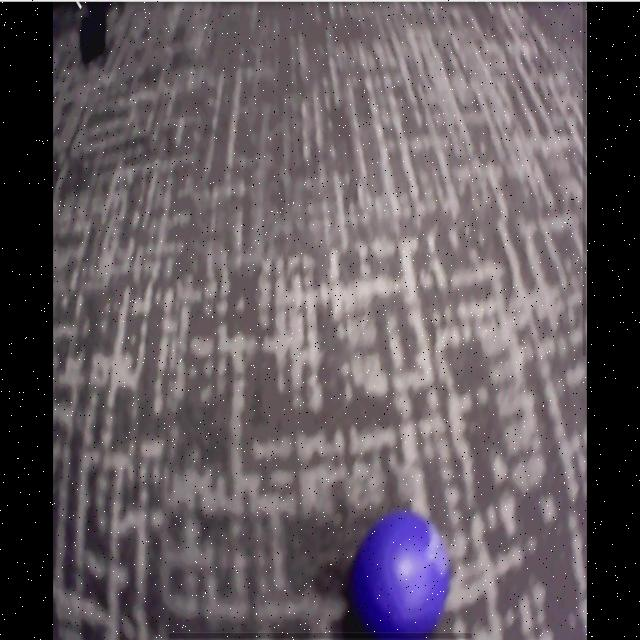ball: (354, 515, 449, 637)
